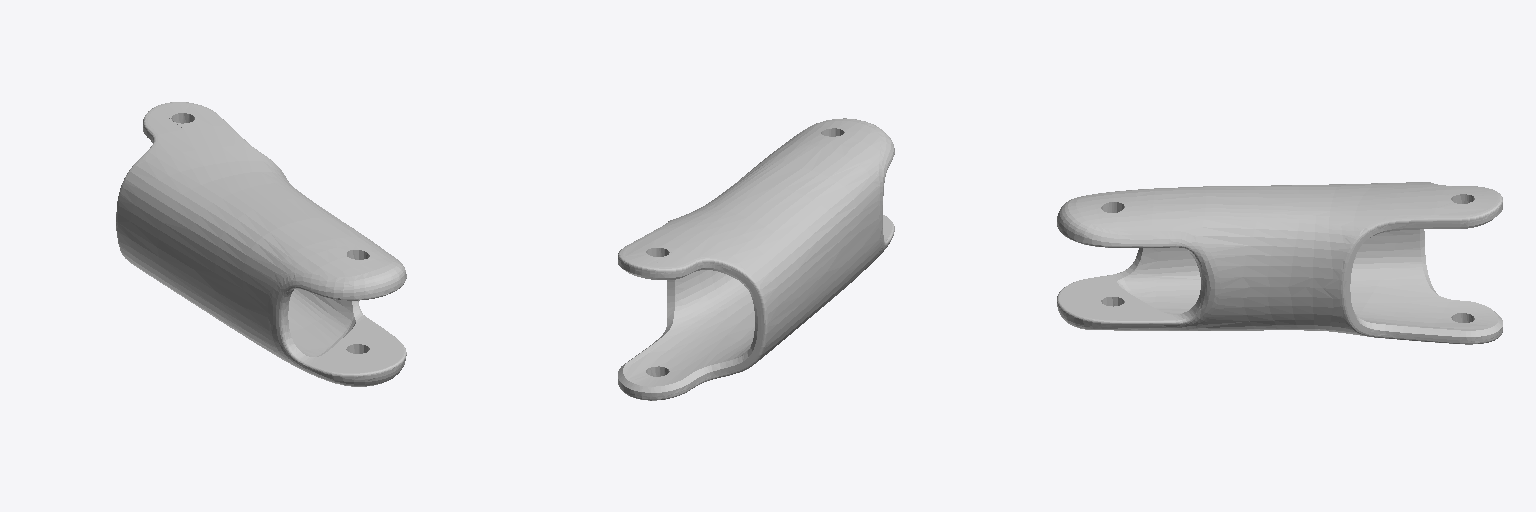
The model's file is middle_proximal.obj.
3 views of the same model, side by side, from view 1: azimuth 30°, elevation 25°; view 2: azimuth 150°, elevation 25°; view 3: azimuth 270°, elevation 25° (orthographic).
Visible parts, largest first — view 1: middle_proximal_Link; view 2: middle_proximal_Link; view 3: middle_proximal_Link.
Boxes of the visible parts, box(x1,y1,x2,y2) form: middle_proximal_Link: box(116, 102, 406, 386); middle_proximal_Link: box(618, 118, 894, 400); middle_proximal_Link: box(1057, 182, 1502, 344).
Bounding box in the file's own units: 0.0169 × 0.0156 × 0.0472.